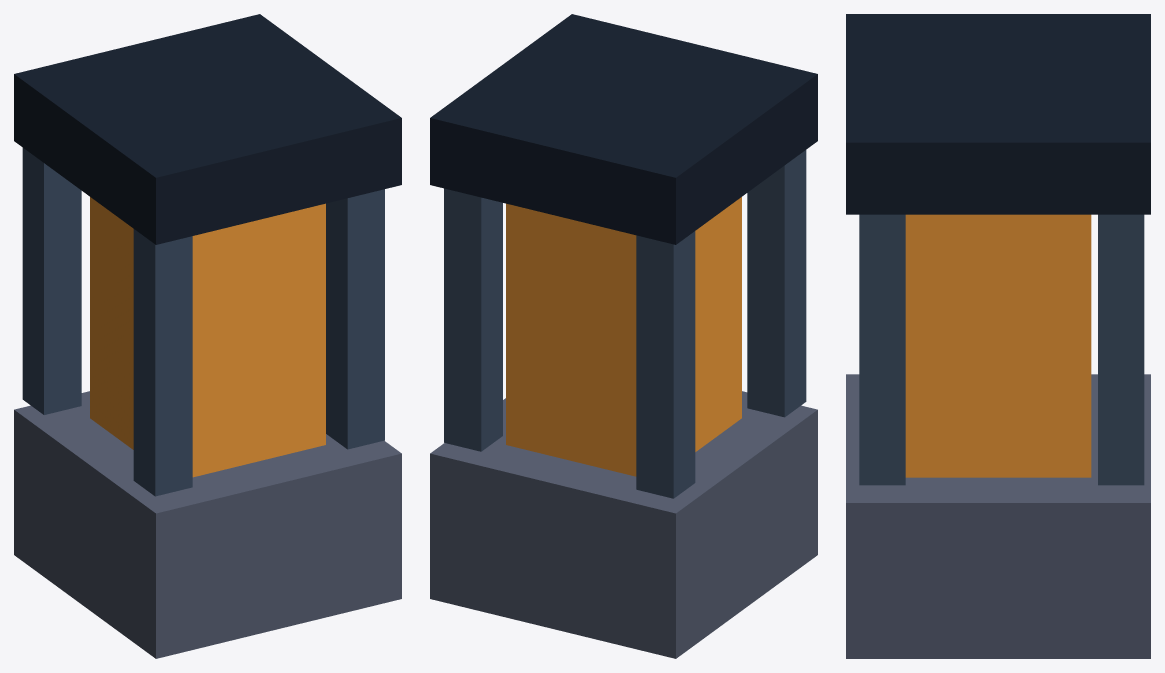
Rendered from env_warning_beacon.obj.
The picture shows the model from 3 angles, left to right: view 1: azimuth 30°, elevation 25°; view 2: azimuth 150°, elevation 25°; view 3: azimuth 270°, elevation 25°; orthographic projection. The views are drawn at different scales.
Size of the model in its own units: 0.46 by 0.86 by 0.46.
